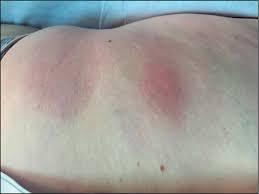Tick: (133, 60, 190, 116)
